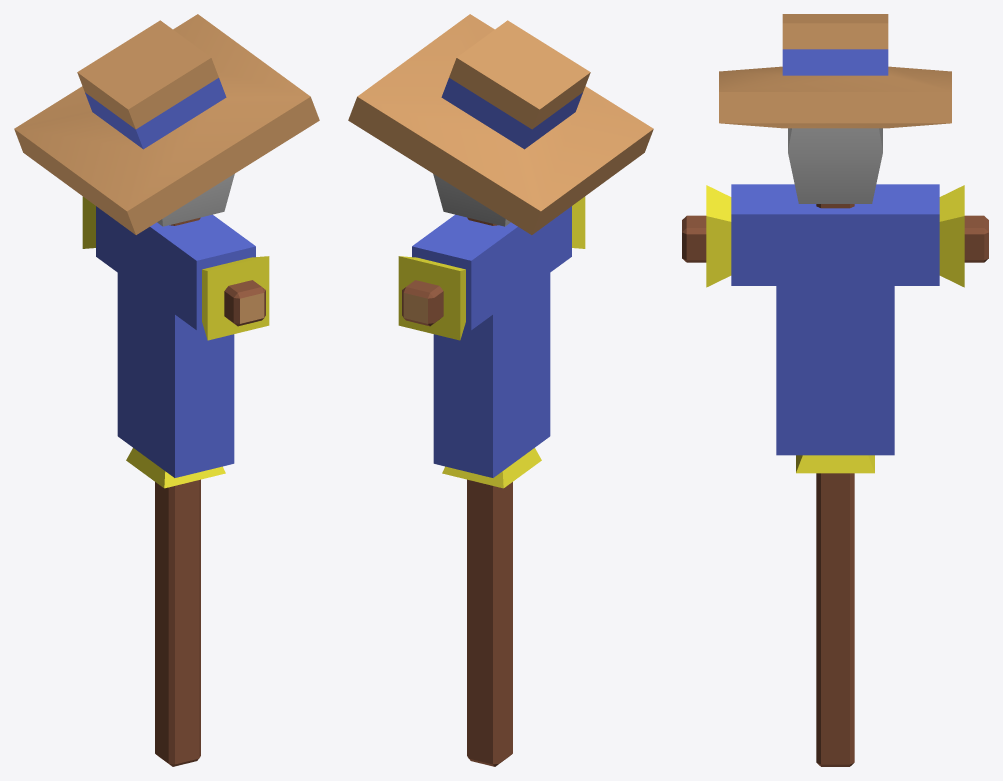
Rendered from Scarecrow.fbx.
3 renders of one model, left to right at view 1: azimuth 30°, elevation 25°; view 2: azimuth 150°, elevation 25°; view 3: azimuth 270°, elevation 25°, orthographic. The views are drawn at different scales.
Visible parts, largest first — view 1: Scarecrow; view 2: Scarecrow; view 3: Scarecrow.
Boxes of the visible parts, x1,y1,x2,y2 form: Scarecrow: (14,14,319,766); Scarecrow: (348,14,653,766); Scarecrow: (682,14,988,766).
Bounding box in the file's own units: 0.2398 × 0.8532 × 0.32.
